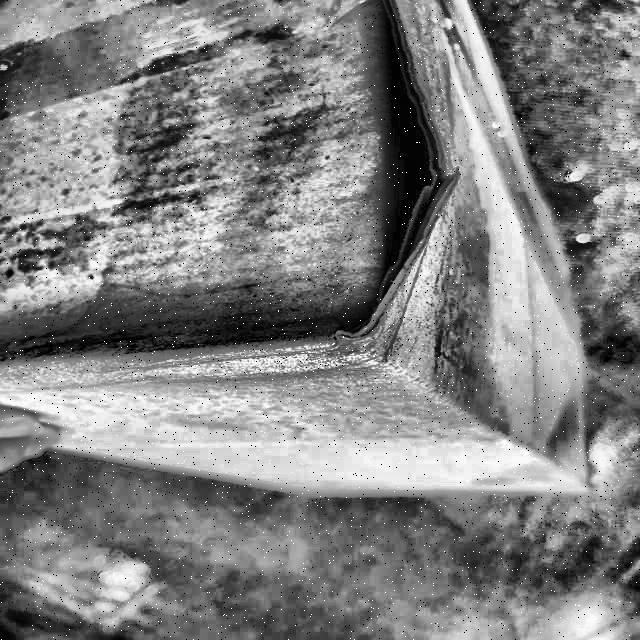box: (0, 0, 594, 512)
hole: (346, 24, 459, 336)
wet: (90, 5, 488, 442)
